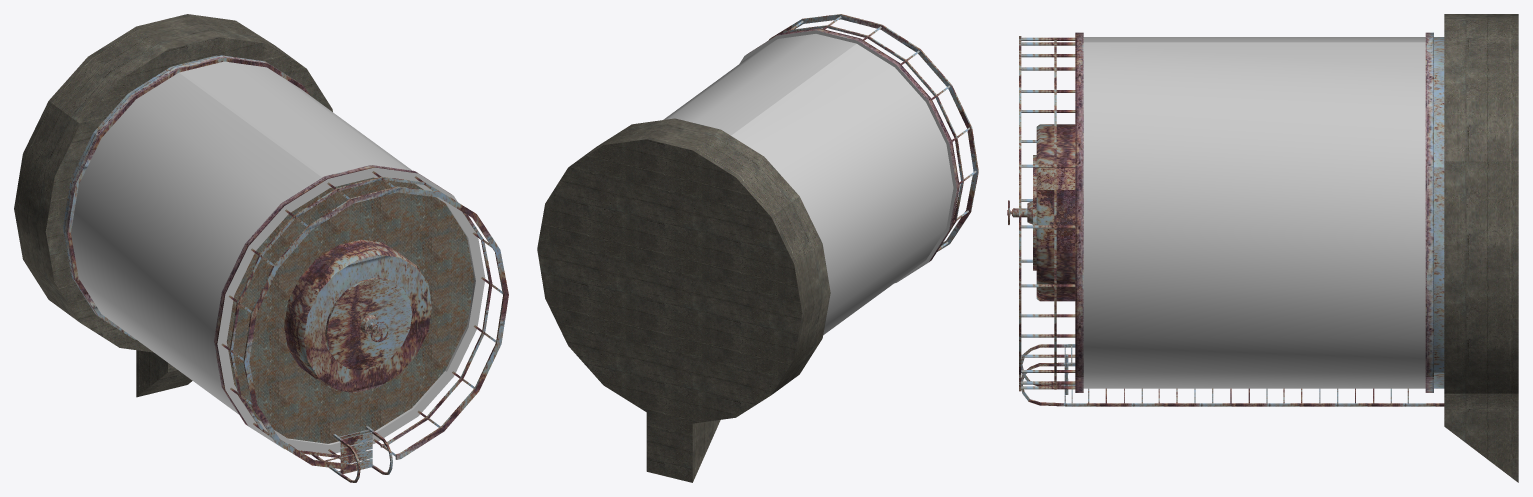
The model's file is oeltank_5.fbx.
3 views of the same model, side by side, from view 1: azimuth 30°, elevation 25°; view 2: azimuth 150°, elevation 25°; view 3: azimuth 270°, elevation 25° (orthographic). The views are drawn at different scales.
Visible parts, largest first — view 1: MDL-Objec4, MDL-Objec2; view 2: MDL-Objec4, MDL-Objec2; view 3: MDL-Objec4, MDL-Objec2.
Boxes of the visible parts, left/top/right/bottom form: MDL-Objec4: left=14, top=14, right=485, bottom=453; MDL-Objec2: left=221, top=171, right=508, bottom=482; MDL-Objec4: left=537, top=28, right=959, bottom=482; MDL-Objec2: left=768, top=14, right=978, bottom=251; MDL-Objec4: left=1027, top=14, right=1518, bottom=482; MDL-Objec2: left=1007, top=36, right=1444, bottom=406.
Bounding box in the file's own units: 6.3 × 7.55 × 8.06.
